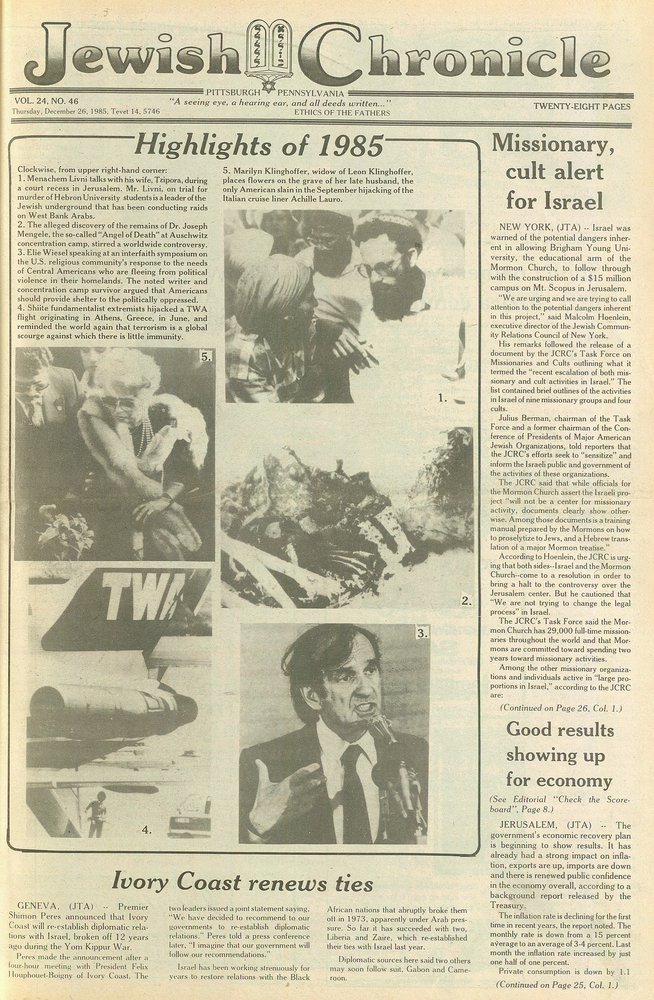news_paper: (6, 4, 654, 991)
